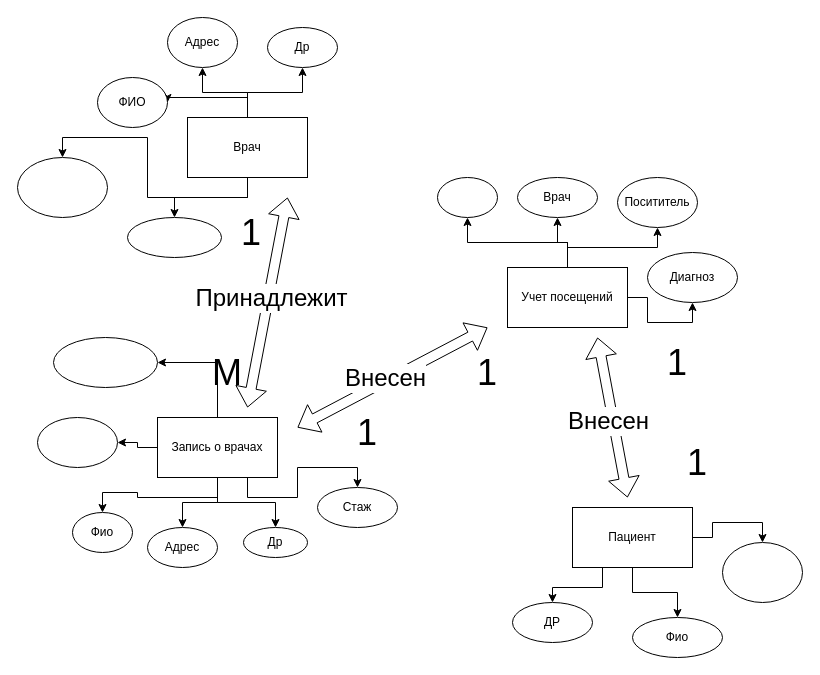
This 820x675 diagram has some shape labels left out. The box of each missing label's shape, as (x1, y1, x2, y2) in pixels:
Дата: (436, 176, 498, 218)
категория: (52, 336, 158, 388)
Номер полиса: (722, 542, 802, 602)
Пасп данные: (36, 416, 118, 468)
Паспортные данные: (16, 156, 108, 218)
Специальность: (126, 216, 222, 258)
